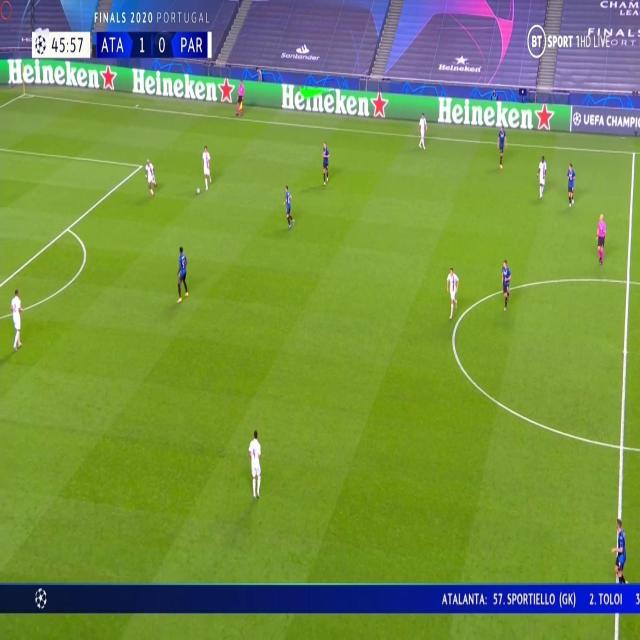ball: (195, 185, 201, 194)
player: (247, 425, 263, 499), (612, 514, 628, 585), (8, 283, 24, 351), (175, 242, 189, 302), (445, 263, 459, 318), (500, 254, 512, 311), (199, 142, 212, 192), (595, 211, 607, 264), (282, 182, 295, 230), (565, 160, 577, 207), (495, 123, 507, 167), (144, 156, 157, 195), (536, 152, 547, 198), (320, 139, 331, 185), (417, 108, 428, 149), (234, 80, 246, 116)
